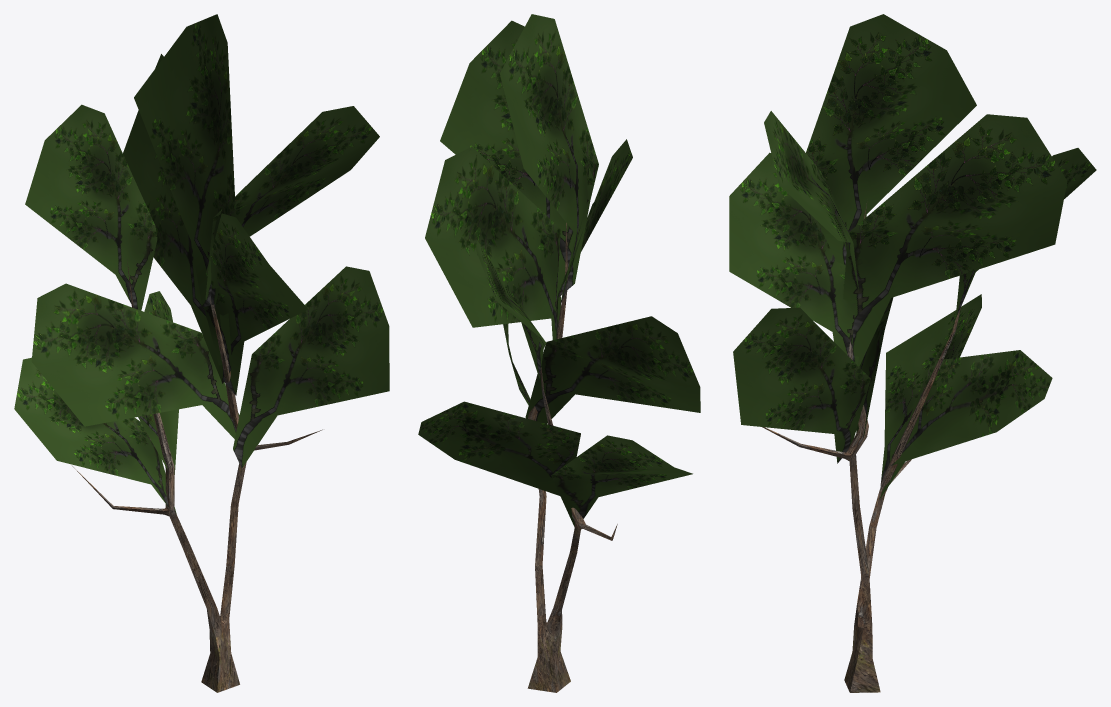
Rendered from tree_6_lod.fbx.
3 renders of one model, left to right at view 1: azimuth 30°, elevation 25°; view 2: azimuth 150°, elevation 25°; view 3: azimuth 270°, elevation 25°, orthographic. The views are drawn at different scales.
Visible parts, largest first — view 1: Mesh Object; view 2: Mesh Object; view 3: Mesh Object.
Boxes of the visible parts, box(x1,y1,x2,y2) form: Mesh Object: box(14, 14, 389, 692); Mesh Object: box(418, 14, 700, 692); Mesh Object: box(729, 14, 1096, 692).
Bounding box in the file's own units: 4.4 × 9.67 × 4.77.
